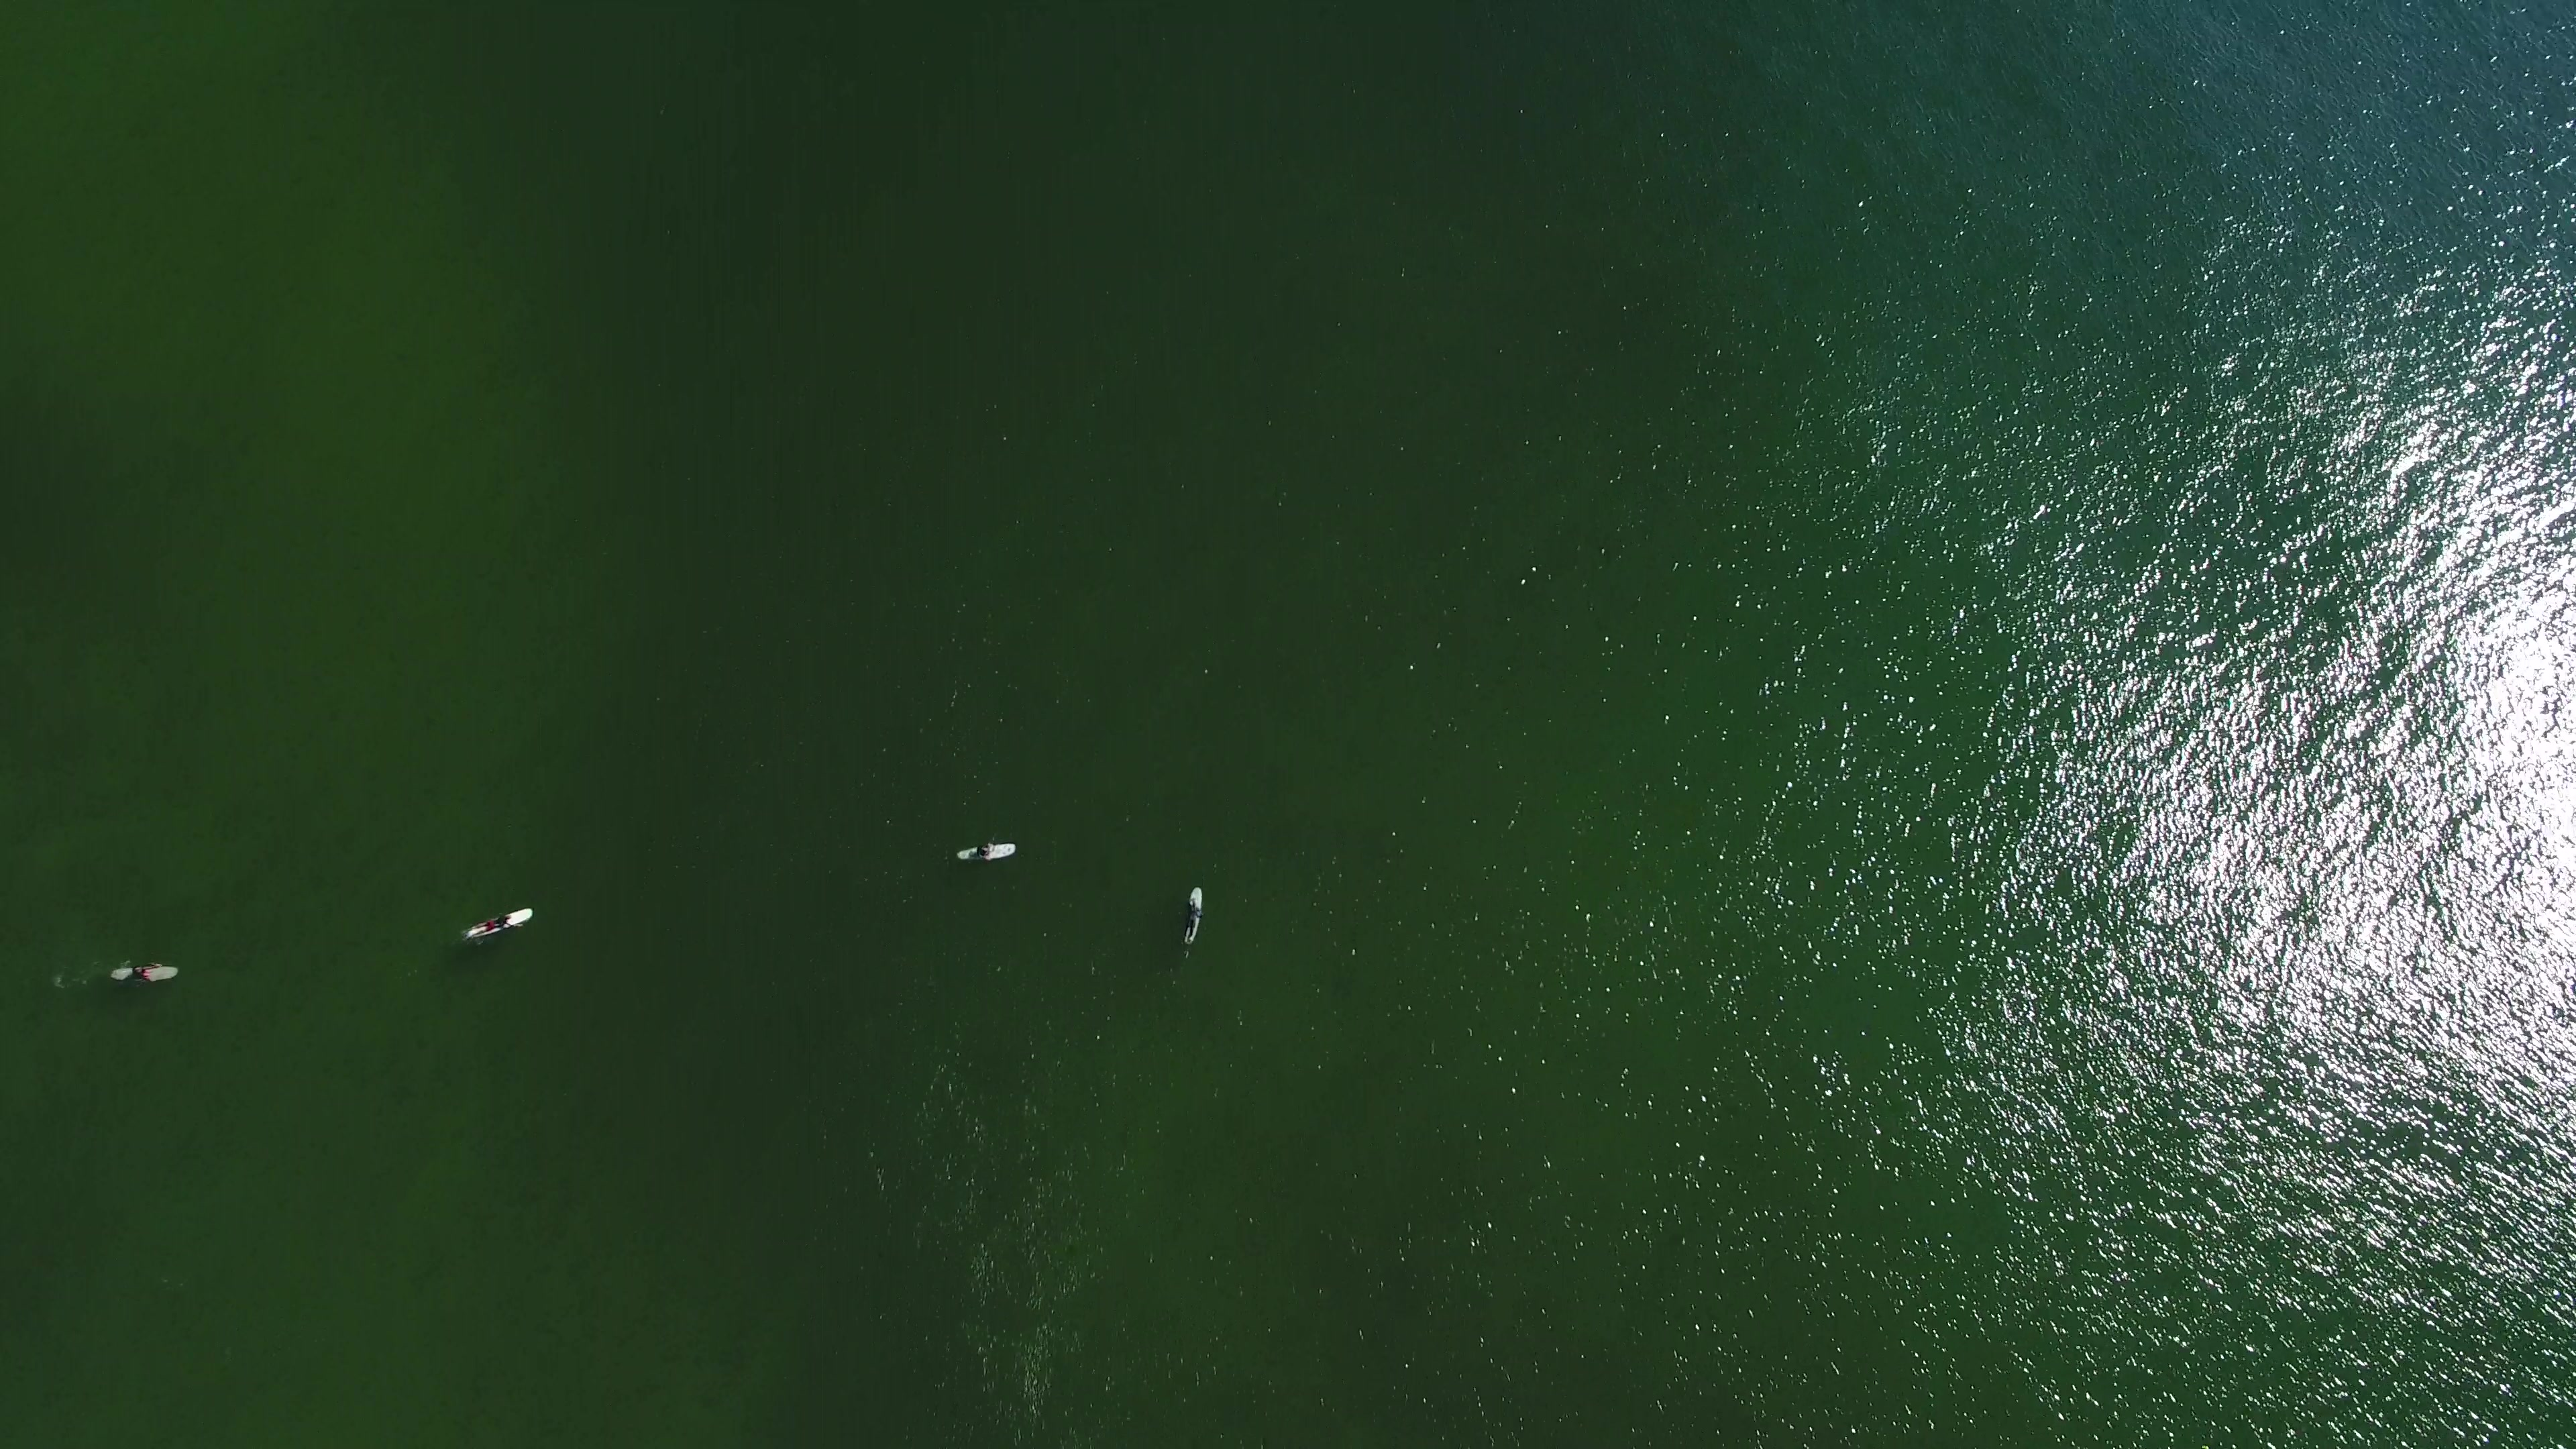surfer: (458, 904, 545, 955), (1168, 883, 1217, 962), (104, 952, 189, 991), (952, 837, 1028, 872)
